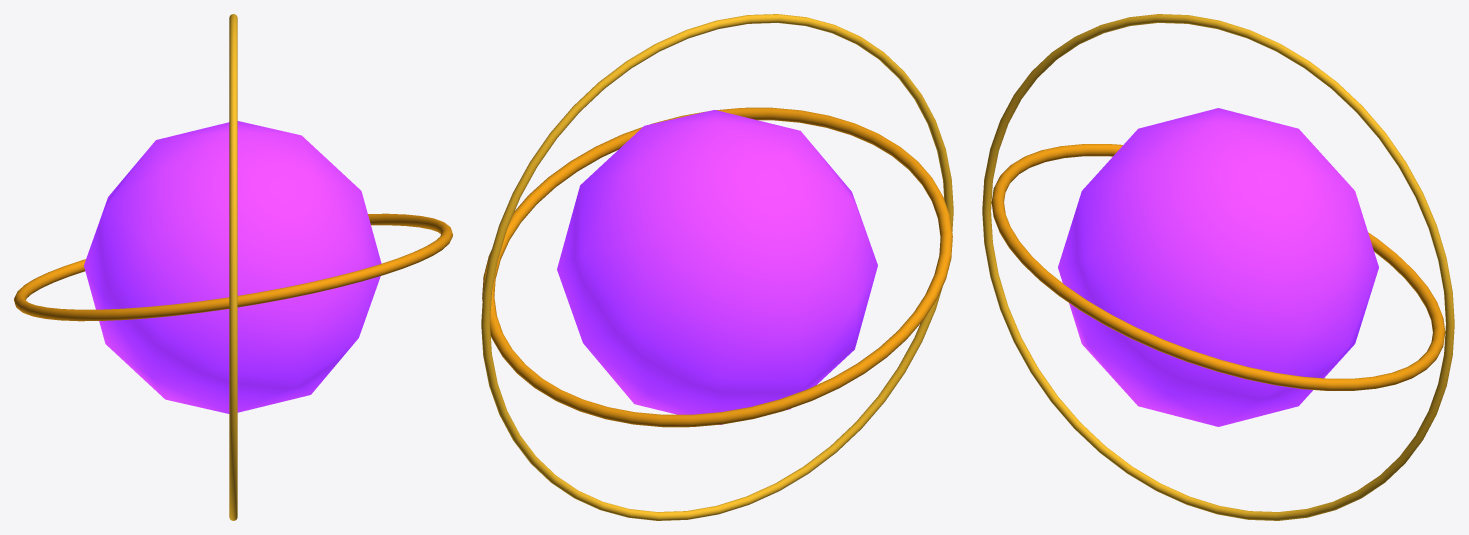
File: boxem_cinematic_vfx_pipeline.glb
3 renders of one model, left to right at view 1: azimuth 30°, elevation 25°; view 2: azimuth 150°, elevation 25°; view 3: azimuth 270°, elevation 25°, orthographic. The views are drawn at different scales.
Visible parts, largest first — view 1: CinematicVFXPipeline; view 2: CinematicVFXPipeline; view 3: CinematicVFXPipeline.
Part boxes in pixels (x1=…): CinematicVFXPipeline: x1=14, y1=14, x2=452, y2=520; CinematicVFXPipeline: x1=481, y1=14, x2=953, y2=520; CinematicVFXPipeline: x1=982, y1=14, x2=1454, y2=520.
Size of the model in its own units: 2.67 by 3.05 by 2.65.
